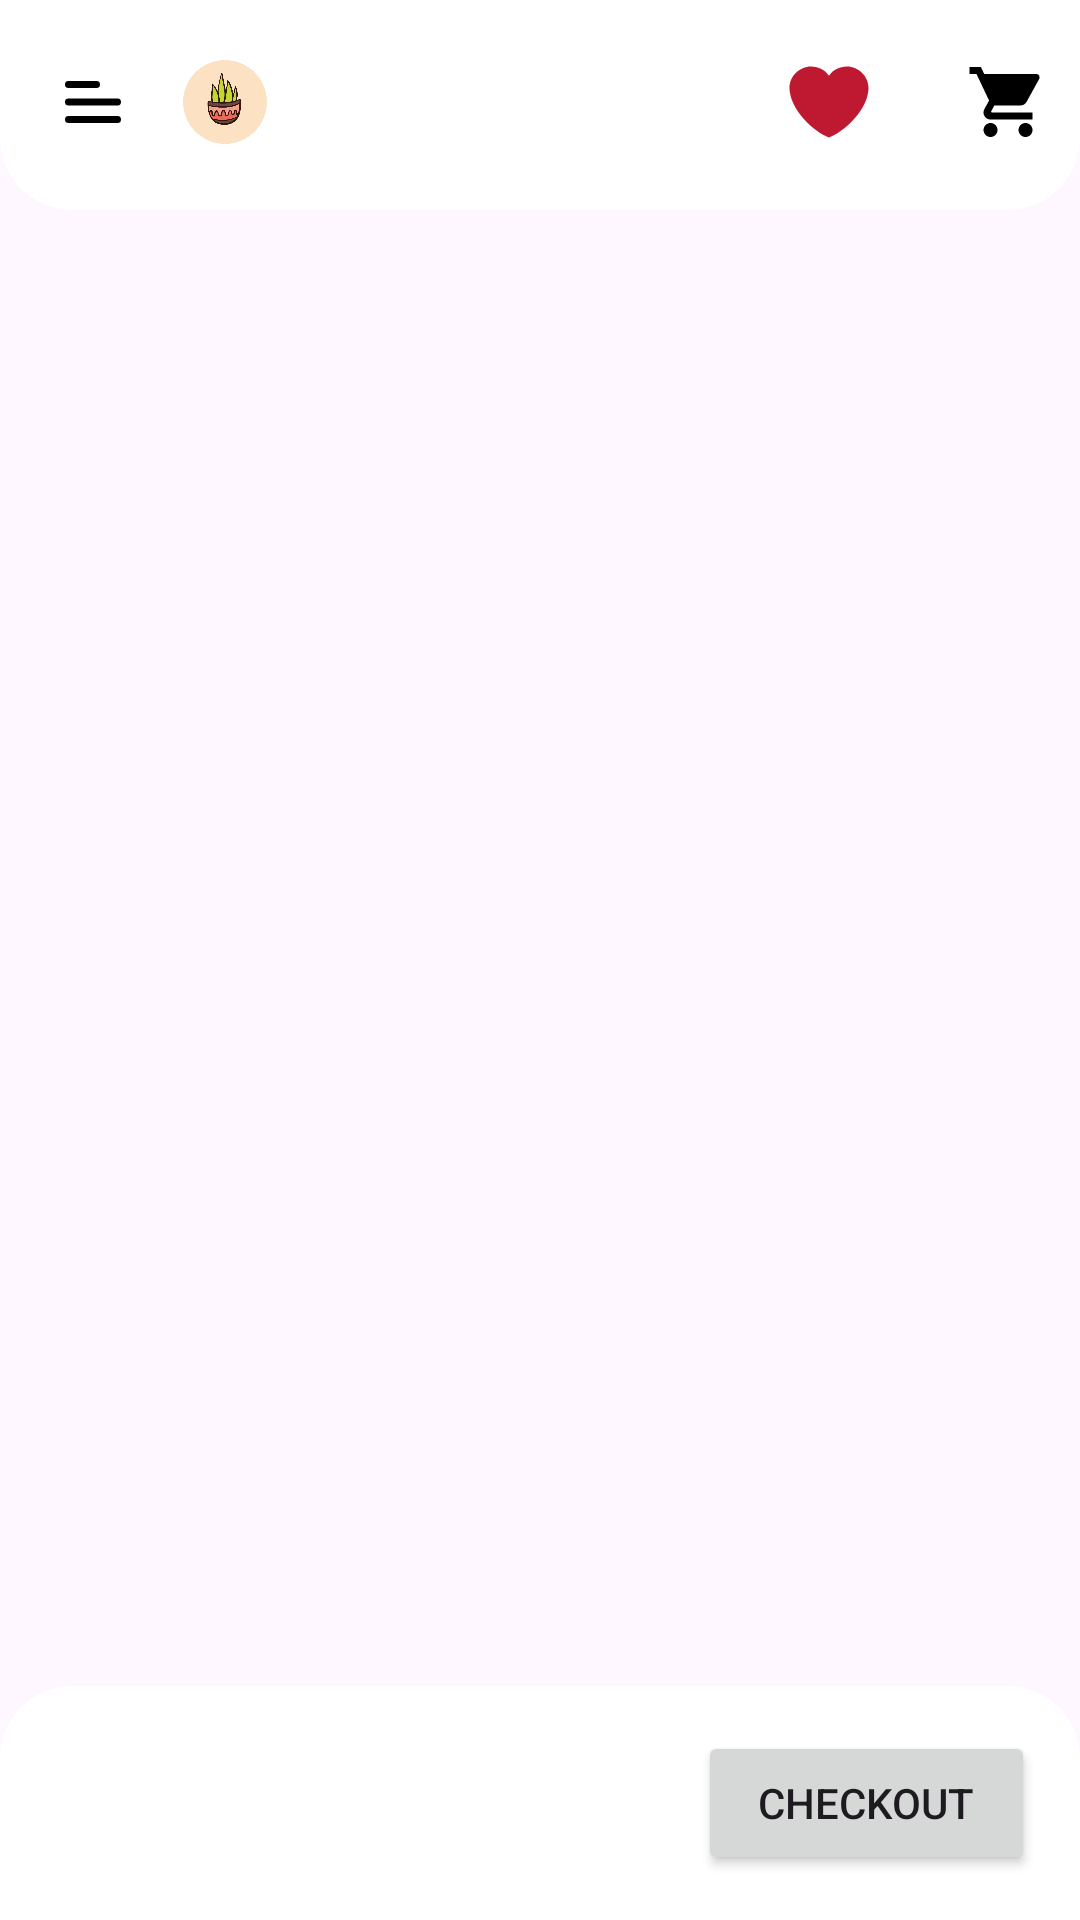

Icon click points for this 1080x1920 phone screenshot, format [x,y]:
cart: [1004,102]
heart: [829,102]
menu: [93,102]
